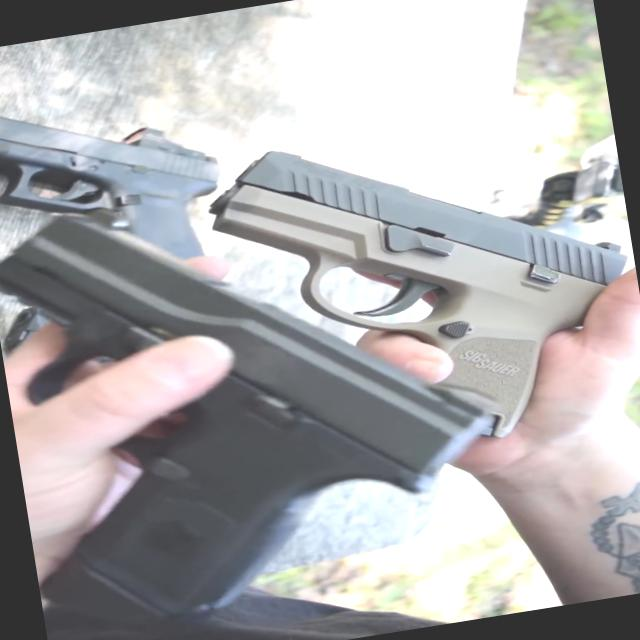handgun: (0, 138, 492, 639), (183, 92, 619, 486)
